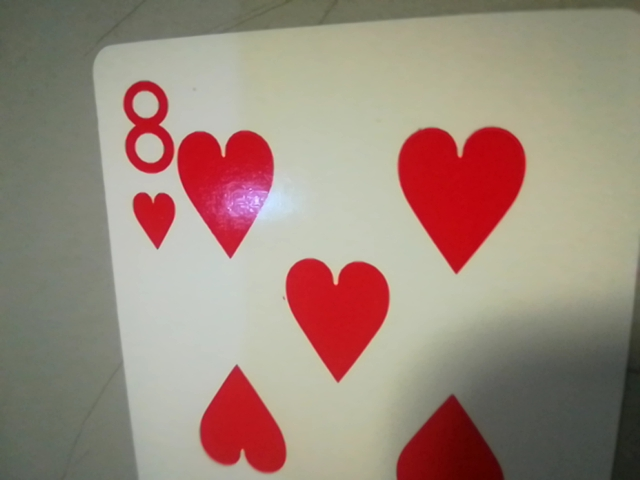hx 8: (109, 68, 182, 253)
